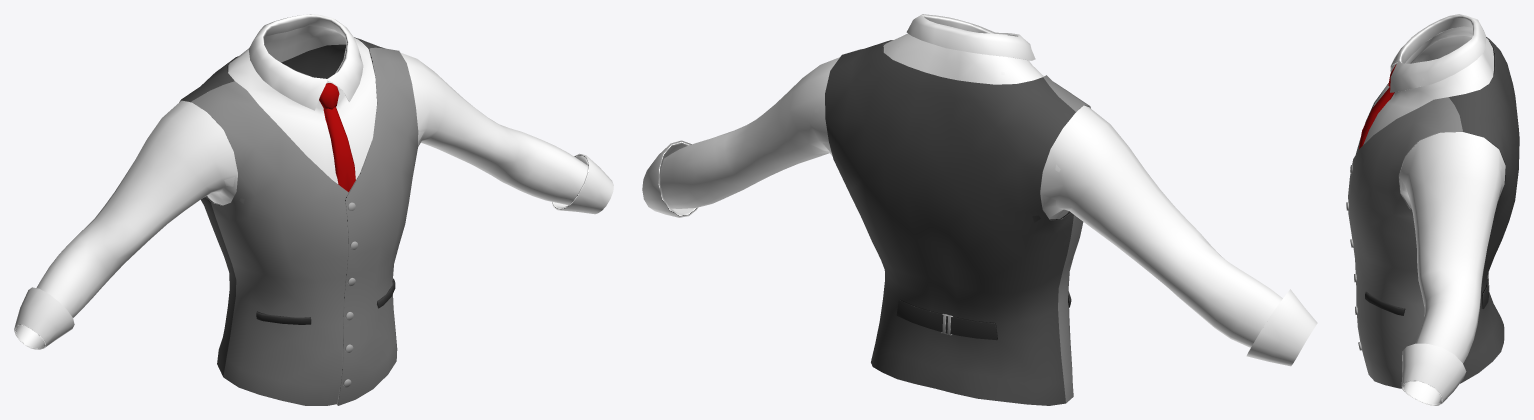
Rendered from shirt_and_vest-processed.glb.
The picture shows the model from 3 angles, left to right: view 1: azimuth 30°, elevation 25°; view 2: azimuth 150°, elevation 25°; view 3: azimuth 270°, elevation 25°; orthographic projection. The views are drawn at different scales.
Visible parts, largest first — view 1: vest, Tshirt1, Tshirt2, Tsgirt4, Tshirt3, CRB; view 2: vest, Tshirt1, Tshirt2, Tsgirt4, back1, Tshirt3; view 3: vest, Tshirt1, Tshirt2, Tshirt3, CRB, Packet1, back1.
Part boxes in pixels (x1,y1,x2,y2): vest: (179,37,418,405); Tshirt1: (15,26,587,348); Tshirt2: (248,14,363,110); Tsgirt4: (14,287,74,349); Tshirt3: (551,153,613,214); CRB: (323,107,355,192); vest: (825,40,1090,405); Tshirt1: (660,33,1282,347); Tshirt2: (906,14,1035,60); Tsgirt4: (1246,289,1317,366); back1: (896,299,997,340); Tshirt3: (642,140,698,217); vest: (1348,37,1519,388); Tshirt1: (1363,26,1505,405); Tshirt2: (1390,14,1485,92); Tshirt3: (1401,343,1466,405); CRB: (1359,87,1394,149); Packet1: (1365,291,1405,315); back1: (1481,272,1488,308).
Bounding box in the file's own units: 0.4635 × 0.2602 × 0.1196.
